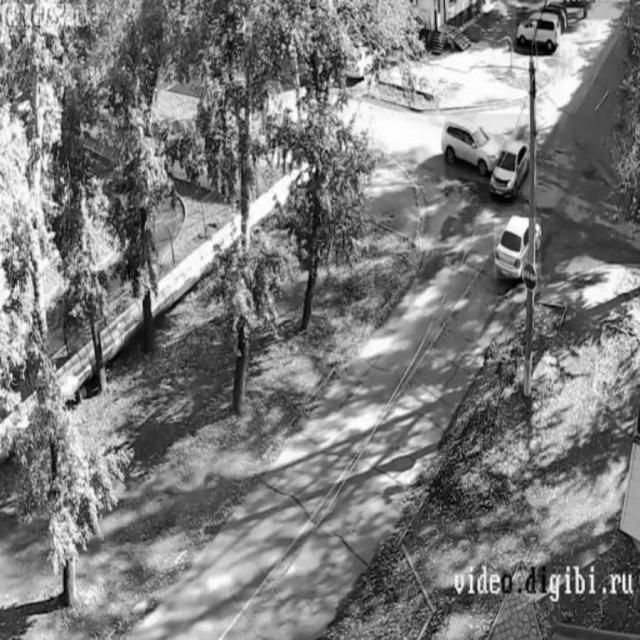accident: (446, 115, 529, 205)
vehicle: (494, 218, 541, 279), (517, 5, 561, 55)
